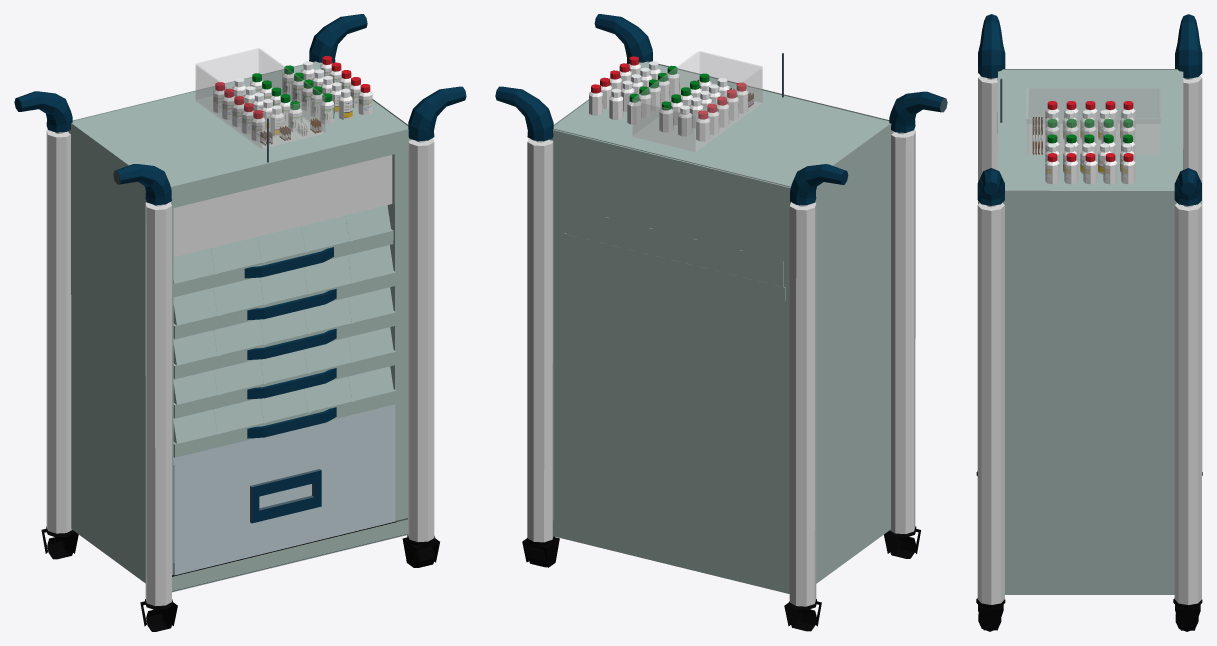
The model's file is CARRO DE MEDICAMENTOS .fbx.
3 views of the same model, side by side, from view 1: azimuth 30°, elevation 25°; view 2: azimuth 150°, elevation 25°; view 3: azimuth 270°, elevation 25° (orthographic).
Visible parts, largest first — view 1: Cubo.110, Cubo.120, Cubo.119, Cubo.124, Cubo.117, Cubo.115, Cubo.122, Cubo.121, Cubo.063; view 2: Cubo.110, Cubo.117, Cubo.063; view 3: Cubo.110, Cubo.063, Ibuprofeno Jarabe.011, Ibuprofeno Jarabe.010, Ibuprofeno Jarabe.009, Ibuprofeno Jarabe.008, Ibuprofeno Jarabe.007.
Boxes of the visible parts, left/top/right/bottom form: Cubo.110: left=14, top=14, right=466, bottom=631; Cubo.120: left=173, top=404, right=395, bottom=575; Cubo.119: left=173, top=155, right=392, bottom=256; Cubo.124: left=173, top=245, right=395, bottom=339; Cubo.117: left=173, top=205, right=393, bottom=297; Cubo.115: left=173, top=287, right=395, bottom=379; Cubo.122: left=173, top=327, right=395, bottom=418; Cubo.121: left=173, top=366, right=395, bottom=457; Cubo.063: left=195, top=48, right=325, bottom=148; Cubo.110: left=495, top=14, right=947, bottom=631; Cubo.117: left=564, top=208, right=785, bottom=300; Cubo.063: left=632, top=51, right=762, bottom=151; Cubo.110: left=976, top=14, right=1202, bottom=631; Cubo.063: left=1026, top=88, right=1160, bottom=155; Ibuprofeno Jarabe.011: left=1103, top=153, right=1117, bottom=184; Ibuprofeno Jarabe.010: left=1083, top=153, right=1097, bottom=184; Ibuprofeno Jarabe.009: left=1064, top=153, right=1078, bottom=184; Ibuprofeno Jarabe.008: left=1045, top=153, right=1059, bottom=184; Ibuprofeno Jarabe.007: left=1121, top=153, right=1135, bottom=184.
Size of the model in its own units: 97.31 by 129 by 55.44.
